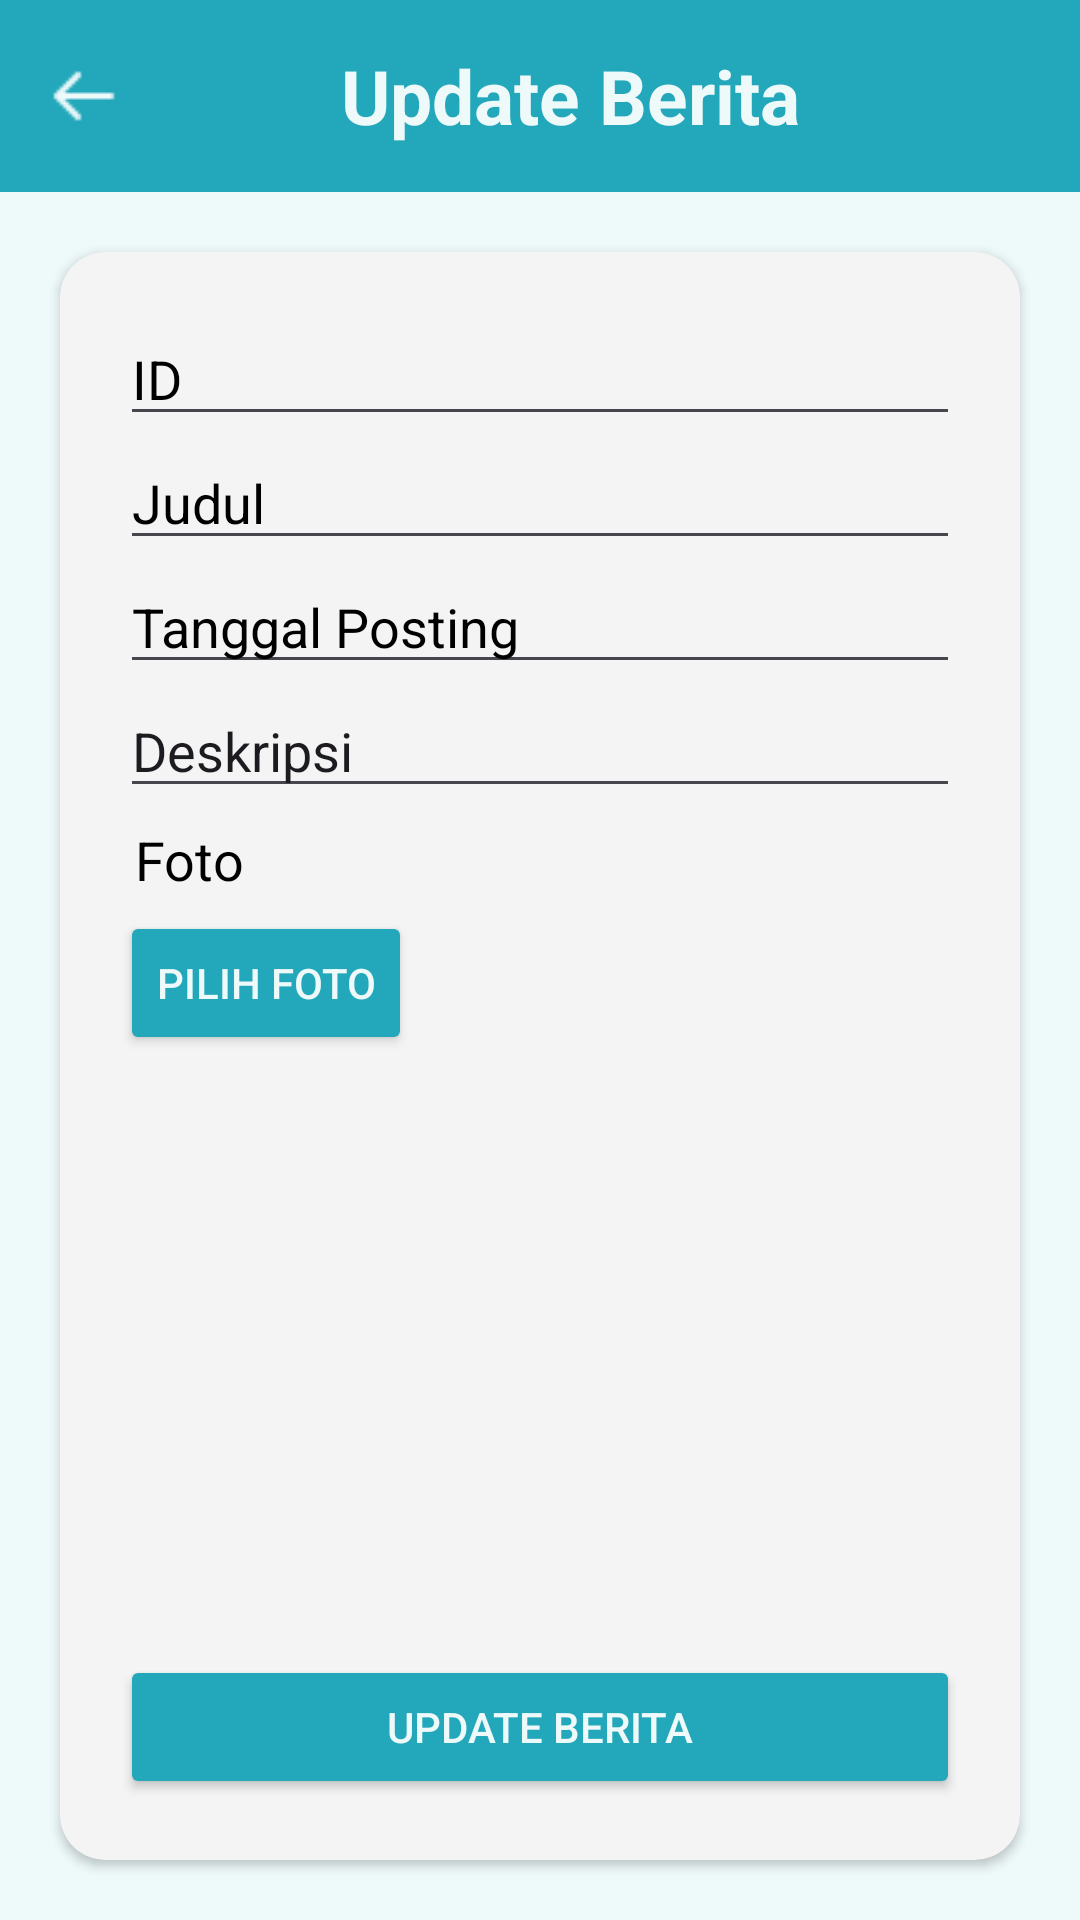

Icon click points for this 1080×1920 phone screenshot, format (x,y):
back: (84,96)
